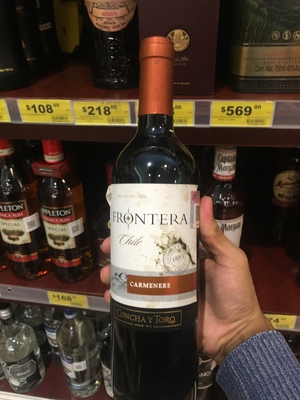frontera carmenere: (96, 32, 212, 400)
